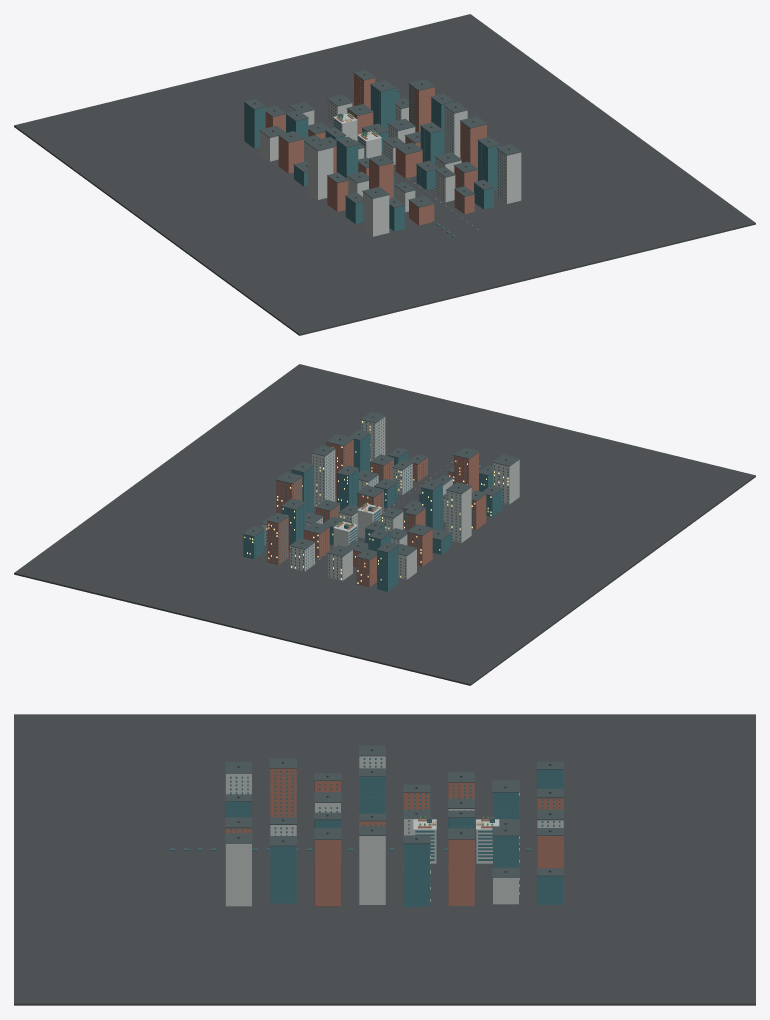
The model's file is rooftops-Cv7z7CtE.glb.
3 renders of one model, top to bottom at view 1: azimuth 30°, elevation 25°; view 2: azimuth 150°, elevation 25°; view 3: azimuth 270°, elevation 25°, orthographic. The views are drawn at different scales.
Visible parts, largest first — view 1: City ground, rooftops_Pearl_concrete, rooftops_Petrol_glass, rooftops_Graphite_steel, rooftops_Terracotta_facade; view 2: City ground, rooftops_Petrol_glass, rooftops_Pearl_concrete, rooftops_Graphite_steel, rooftops_Terracotta_facade, rooftops_Warm_windows; view 3: City ground, rooftops_Petrol_glass, rooftops_Graphite_steel, rooftops_Terracotta_facade, rooftops_Pearl_concrete.
Boxes of the visible parts, box(x1,y1,x2,y2) form: City ground: box(14, 14, 755, 335); rooftops_Pearl_concrete: box(260, 100, 521, 236); rooftops_Petrol_glass: box(244, 77, 505, 237); rooftops_Graphite_steel: box(244, 69, 521, 208); rooftops_Terracotta_facade: box(265, 73, 486, 225); City ground: box(14, 364, 755, 685); rooftops_Petrol_glass: box(243, 418, 508, 591); rooftops_Pearl_concrete: box(261, 417, 519, 580); rooftops_Graphite_steel: box(243, 411, 519, 560); rooftops_Terracotta_facade: box(267, 439, 486, 587); rooftops_Warm_windows: box(244, 421, 508, 583); City ground: box(14, 714, 755, 1005); rooftops_Petrol_glass: box(170, 758, 563, 906); rooftops_Graphite_steel: box(225, 745, 563, 877); rooftops_Terracotta_facade: box(225, 768, 563, 906); rooftops_Pearl_concrete: box(225, 756, 563, 906).
Bounding box in the file's own units: 600 × 71.31 × 650.
